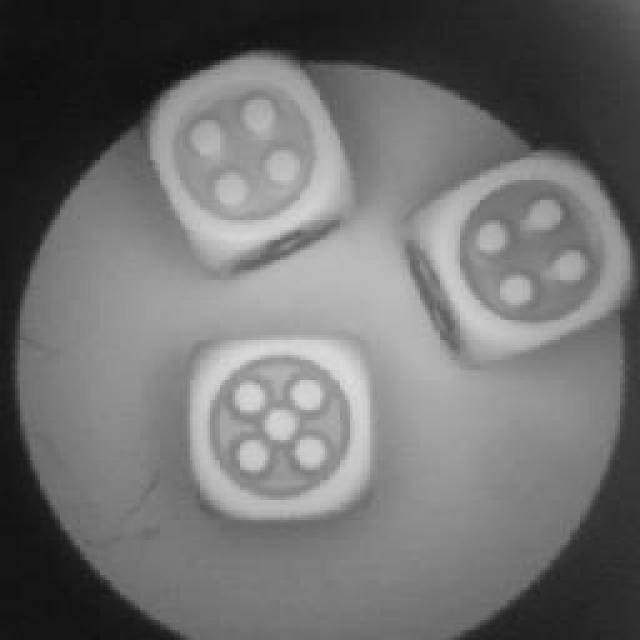dice_4: (415, 145, 633, 363), (147, 48, 355, 262)
dice_5: (185, 332, 385, 528)
